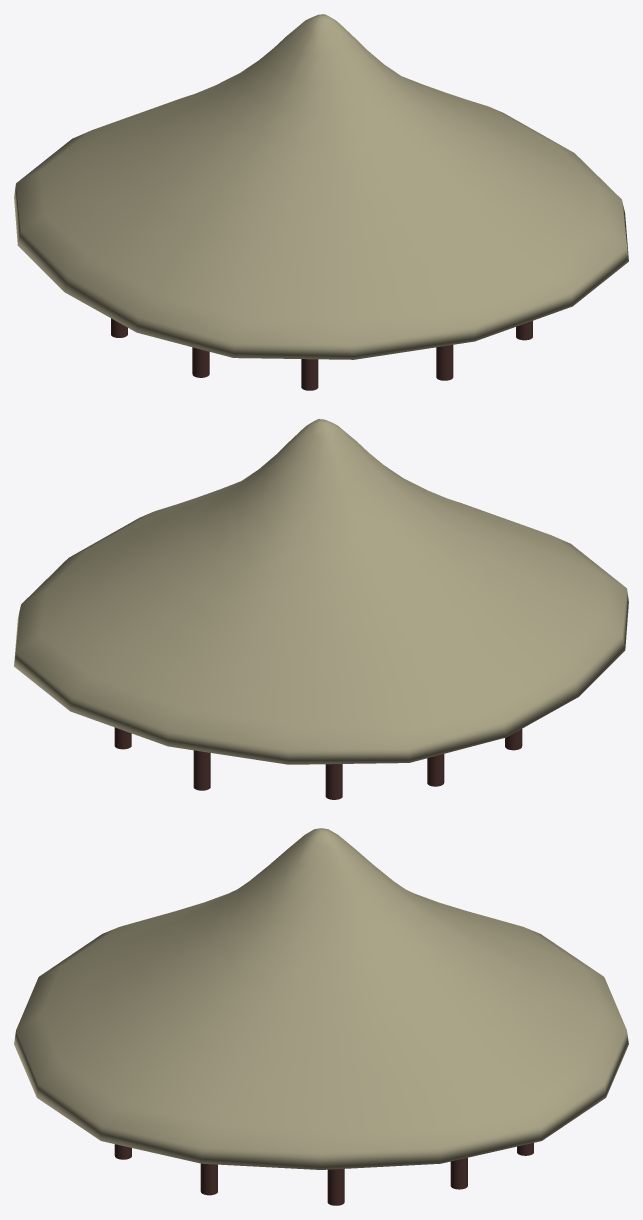
Rendered from StrawHouse.fbx.
The picture shows the model from 3 angles, top to bottom: view 1: azimuth 30°, elevation 25°; view 2: azimuth 150°, elevation 25°; view 3: azimuth 270°, elevation 25°; orthographic projection.
Visible parts, largest first — view 1: pCube1, pCylinder14; view 2: pCube1, pCylinder14; view 3: pCube1, pCylinder14.
Part boxes in pixels (x1,y1,x2,y2): pCube1: [14, 14, 628, 359]; pCylinder14: [111, 318, 532, 390]; pCube1: [14, 419, 628, 764]; pCylinder14: [114, 727, 522, 799]; pCube1: [14, 828, 628, 1169]; pCylinder14: [114, 1143, 533, 1205].
Bounding box in the file's own units: 39.7 × 20.41 × 40.97.
